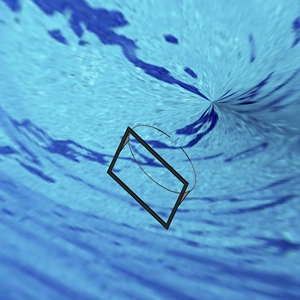circle: (104, 121, 198, 231)
